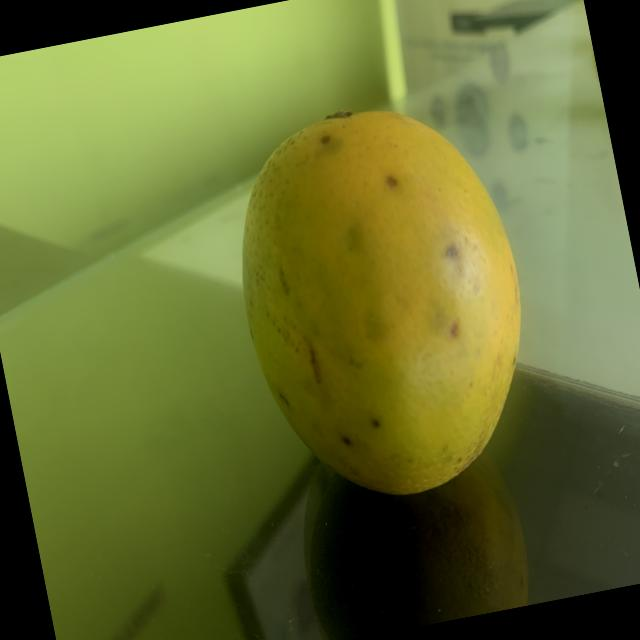Ripe orange: (208, 72, 572, 527)
